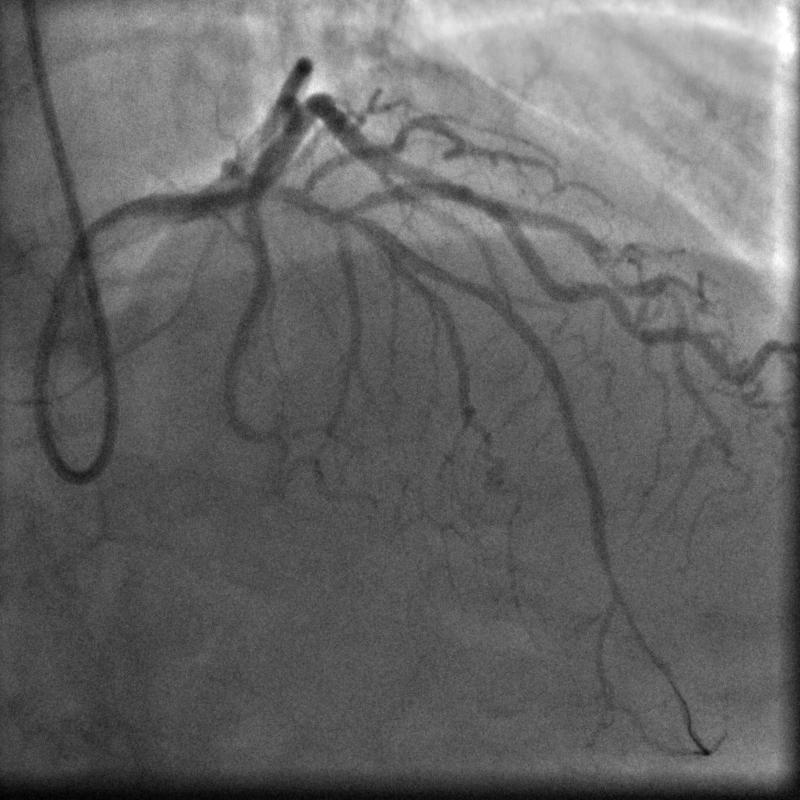Stenosis: (450, 180, 501, 218)
